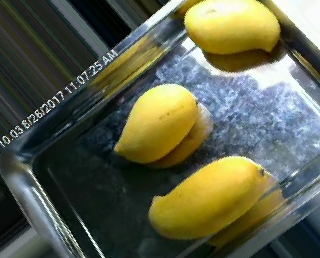Mango: (149, 157, 266, 240), (113, 84, 198, 163), (184, 0, 280, 52)
